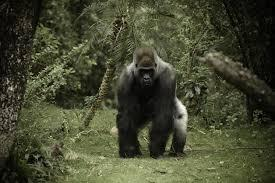gorille_Autres: (106, 42, 199, 162)
